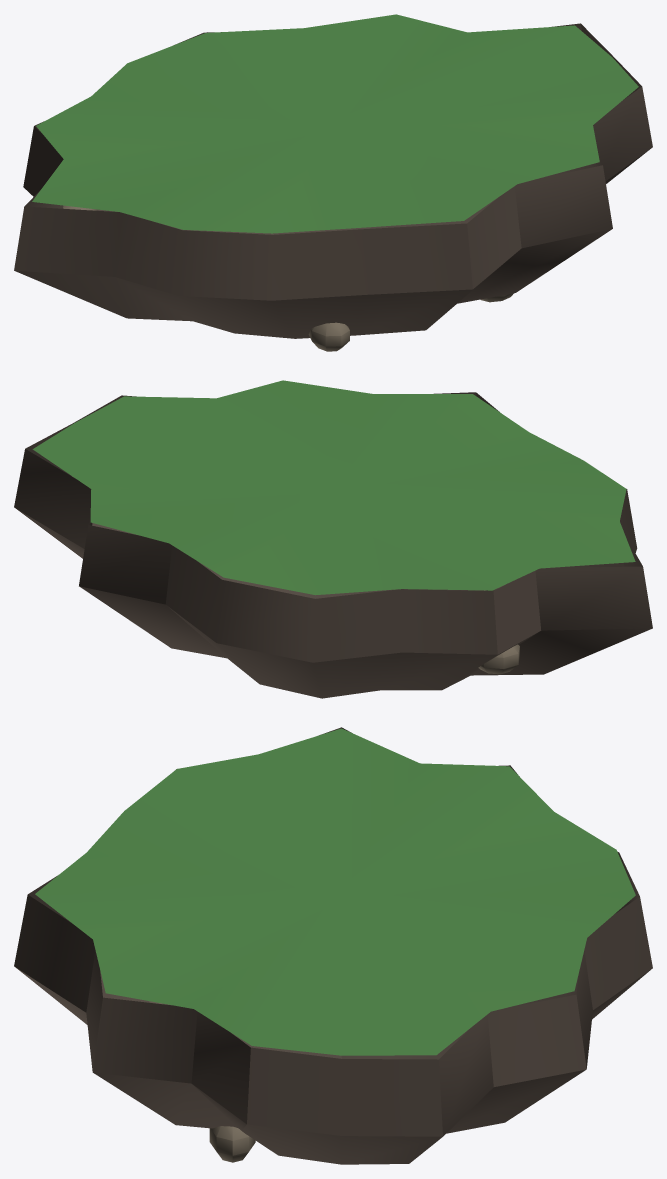
File: home_island.obj
The picture shows the model from 3 angles, top to bottom: view 1: azimuth 30°, elevation 25°; view 2: azimuth 150°, elevation 25°; view 3: azimuth 270°, elevation 25°; orthographic projection. The views are drawn at different scales.
Parts seen in each view (by area): view 1: IslandGrassTop, IslandCliff, IslandStoneAccents; view 2: IslandGrassTop, IslandCliff, IslandStoneAccents; view 3: IslandGrassTop, IslandCliff, IslandStoneAccents.
Part boxes in pixels (<box>): IslandGrassTop: <box>32,14,638,233</box>; IslandCliff: <box>14,23,652,338</box>; IslandStoneAccents: <box>63,205,513,351</box>; IslandGrassTop: <box>32,380,635,595</box>; IslandCliff: <box>14,392,652,698</box>; IslandStoneAccents: <box>478,584,519,674</box>; IslandGrassTop: <box>35,728,635,1055</box>; IslandCliff: <box>14,727,652,1164</box>; IslandStoneAccents: <box>149,1001,255,1162</box>.
Size of the model in its own units: 68.73 by 20.95 by 52.86.
